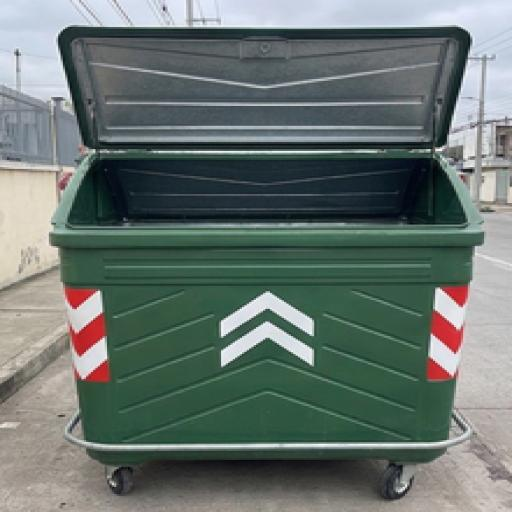Contenedor_Vacio: (51, 25, 479, 498)
